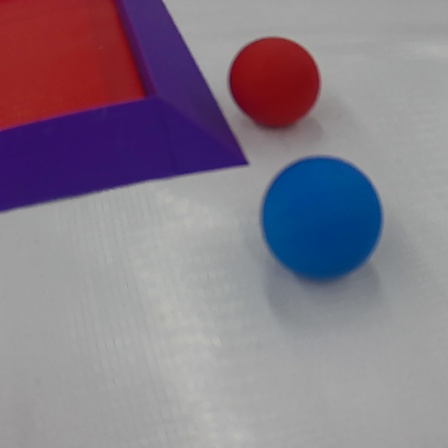blue: (255, 155, 386, 287)
red: (231, 27, 324, 134)
red_aim: (0, 0, 246, 222)
